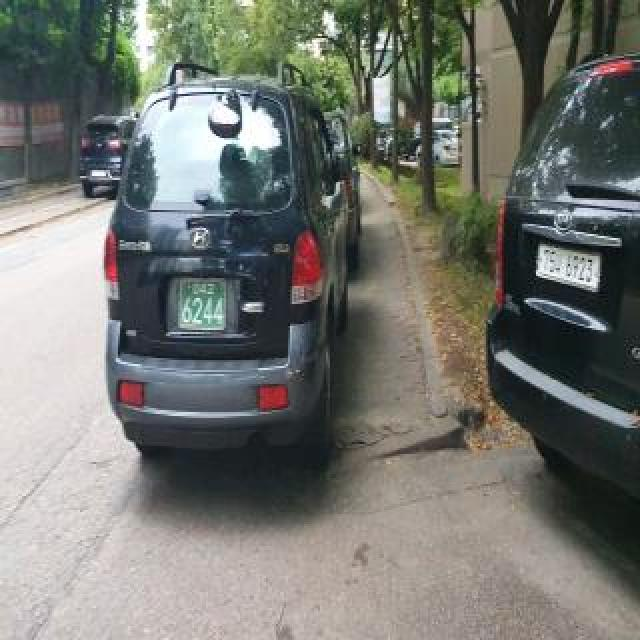car: (100, 56, 360, 468)
illegal_plate: (168, 274, 238, 339)
